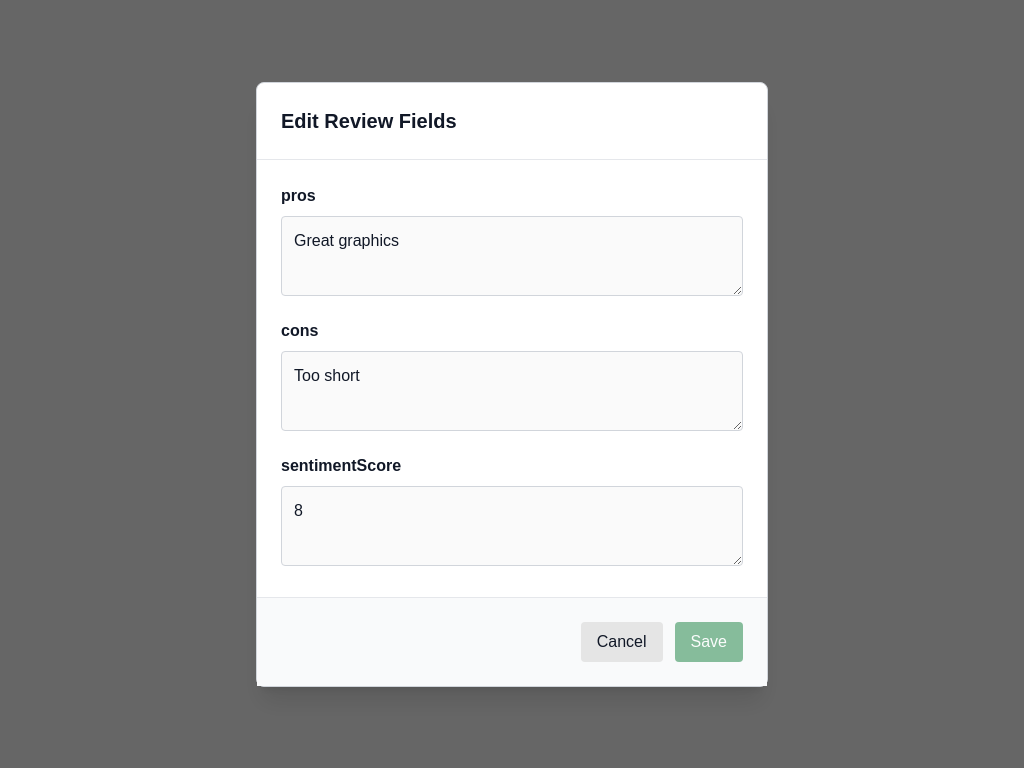
Test: EditReviewModal › enables save button when changes are made
Replace the text in the text box showing "Great graphics" below "pros" with "Amazing visuals": [512, 256] box [281, 216, 743, 296]
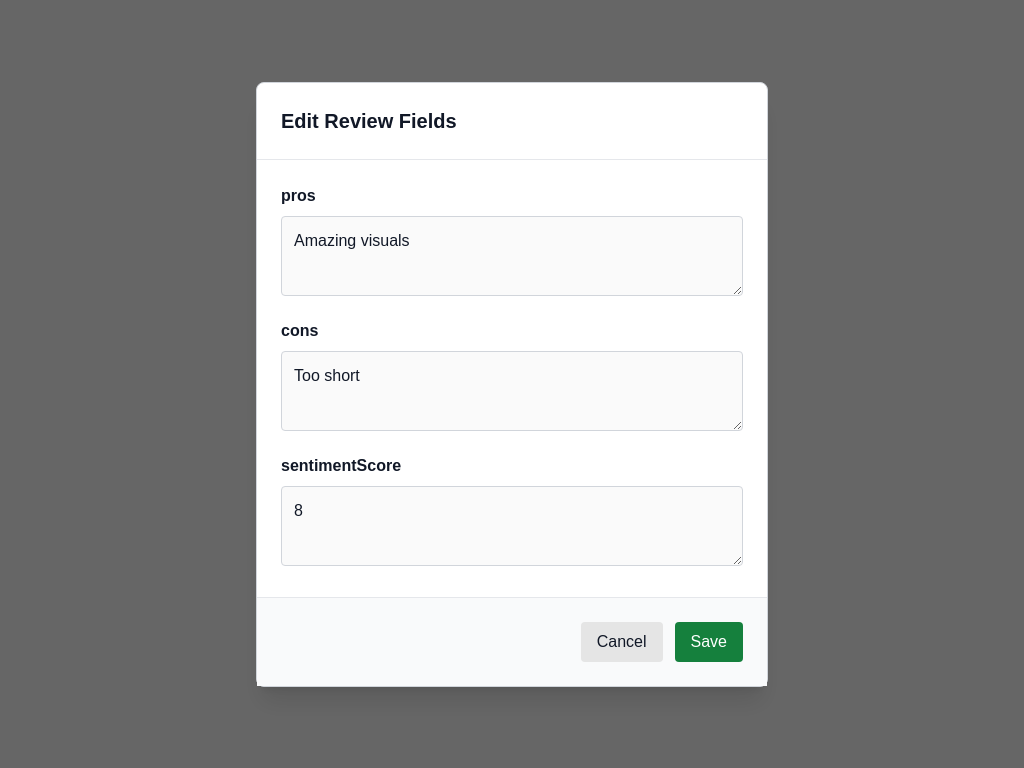
Result: the button "Save" is enabled at [674, 622, 743, 662]
